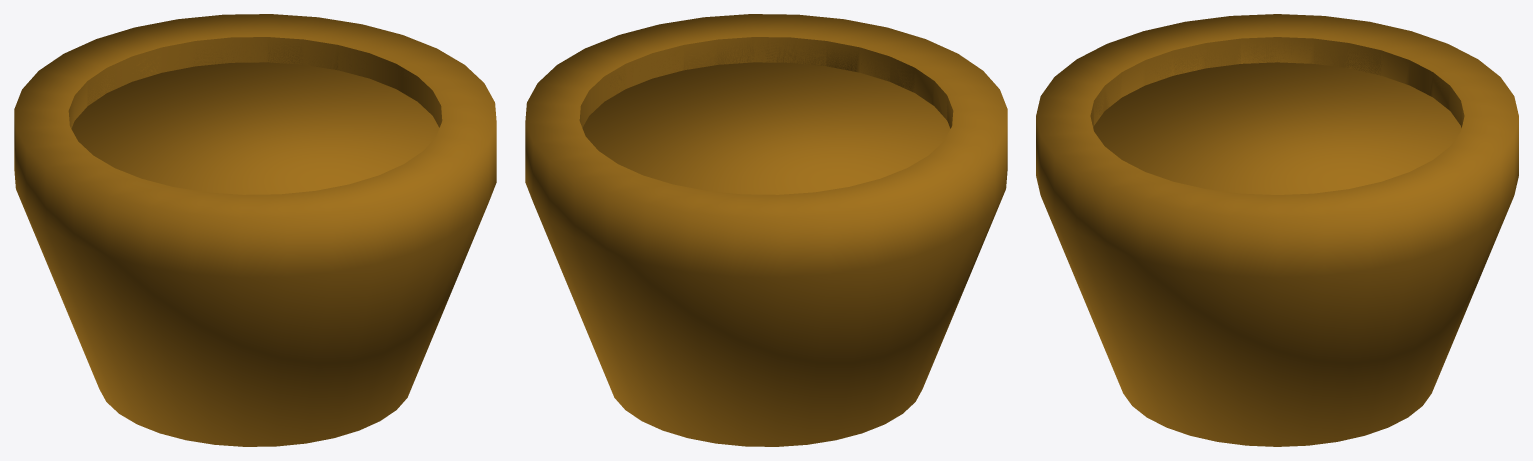
File: maceta .fbx
3 renders of one model, left to right at view 1: azimuth 30°, elevation 25°; view 2: azimuth 150°, elevation 25°; view 3: azimuth 270°, elevation 25°, orthographic.
Parts seen in each view (by area): view 1: FLORPENSAMIENTO.139; view 2: FLORPENSAMIENTO.139; view 3: FLORPENSAMIENTO.139.
Part boxes in pixels (x1=…): FLORPENSAMIENTO.139: x1=14, y1=14, x2=496, y2=446; FLORPENSAMIENTO.139: x1=525, y1=14, x2=1007, y2=446; FLORPENSAMIENTO.139: x1=1036, y1=14, x2=1518, y2=446.
Size of the model in its own units: 87.14 by 52.65 by 87.14.
